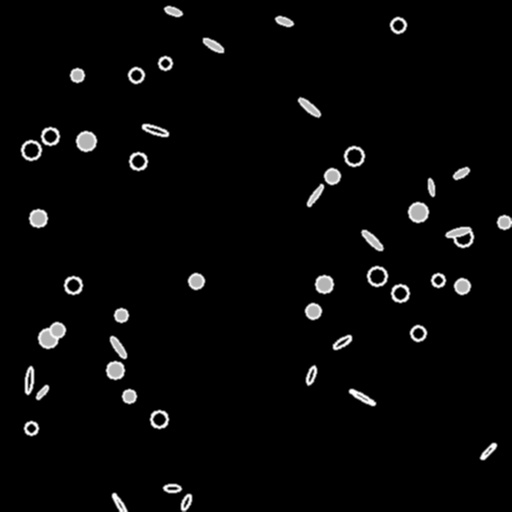pseudomonas: (360, 228, 384, 252), (297, 96, 321, 118), (348, 388, 376, 406), (201, 36, 225, 54), (306, 183, 324, 207), (109, 335, 127, 359), (331, 333, 353, 351), (142, 123, 168, 137), (111, 493, 129, 512), (479, 442, 497, 460), (445, 226, 471, 238), (24, 366, 34, 394), (452, 166, 470, 180), (305, 365, 317, 385), (35, 384, 49, 400), (180, 493, 192, 511), (164, 5, 182, 17), (275, 16, 293, 26), (164, 484, 180, 492), (427, 179, 435, 195)
synechocystis: (409, 203, 427, 221), (22, 141, 40, 159), (368, 267, 386, 285), (39, 329, 57, 347), (77, 132, 95, 150), (345, 147, 363, 165), (454, 228, 472, 246), (316, 276, 332, 292), (392, 285, 408, 301), (107, 362, 123, 378), (65, 277, 81, 293), (42, 128, 58, 144), (130, 153, 146, 169), (151, 411, 167, 427), (30, 210, 46, 226), (391, 18, 405, 32), (189, 274, 203, 288), (306, 304, 320, 318), (455, 279, 469, 293), (50, 323, 64, 337), (411, 326, 425, 340), (129, 68, 143, 82), (325, 169, 339, 183), (432, 274, 444, 286), (123, 390, 135, 402), (159, 57, 171, 69), (25, 422, 37, 434), (71, 69, 83, 81), (115, 309, 127, 321), (498, 216, 510, 228)
